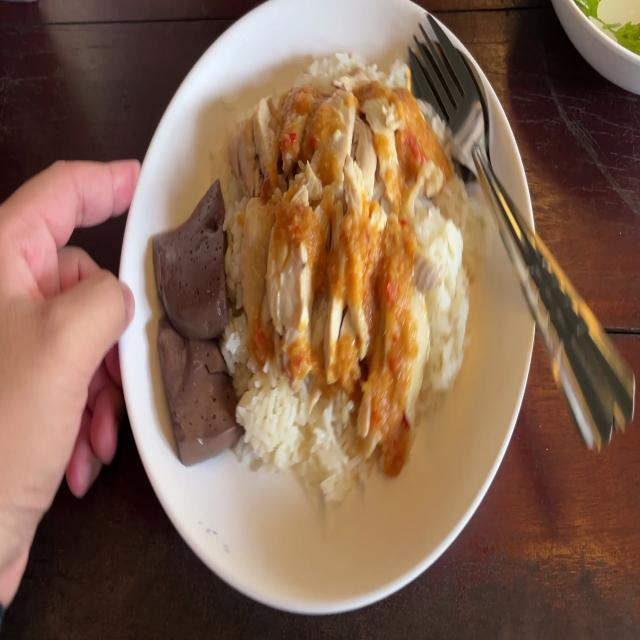boiled_chicken: (241, 79, 426, 409)
boiled_chicken_blood_jelly: (153, 310, 244, 462), (148, 182, 234, 336)
chicken_rice: (139, 48, 503, 536)
